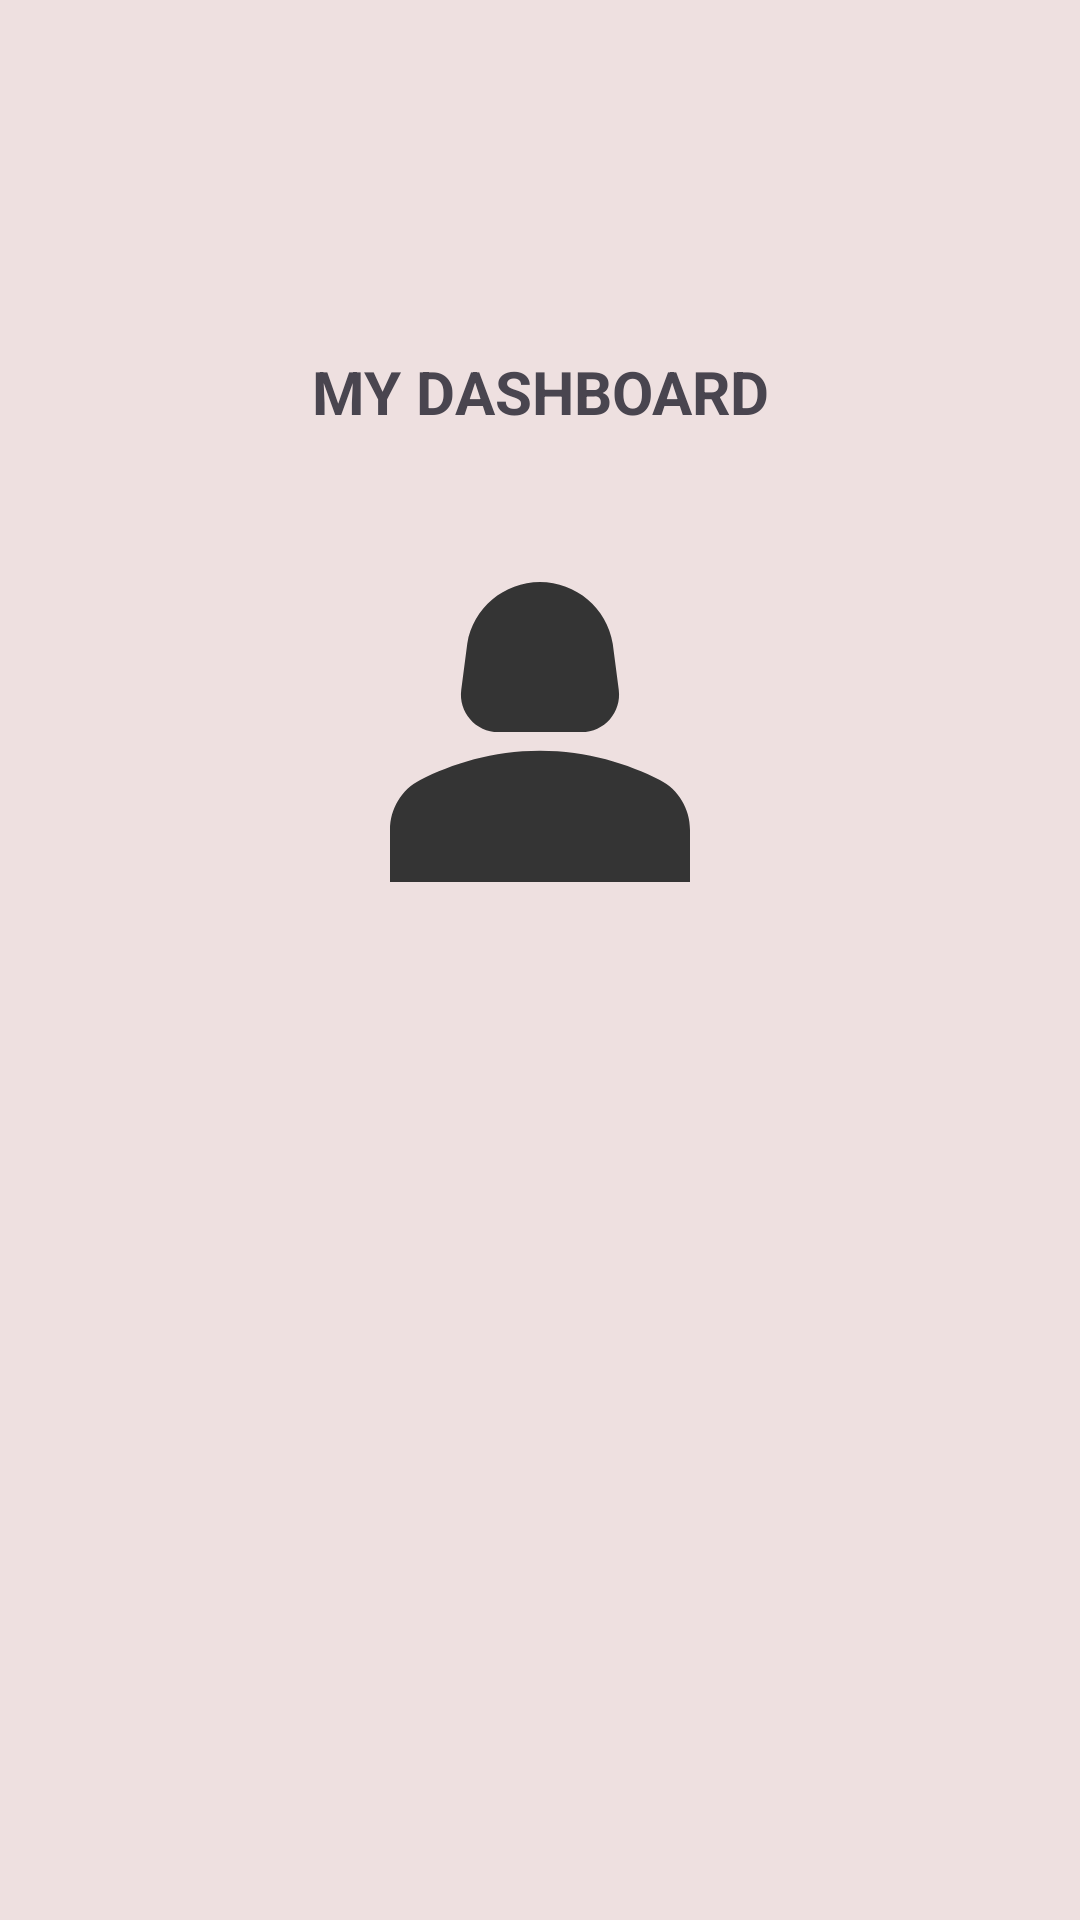

Where icons sit on this 1080x1920 app screen, as (x1, y1, x2, y2):
person: (390, 582, 690, 882)
